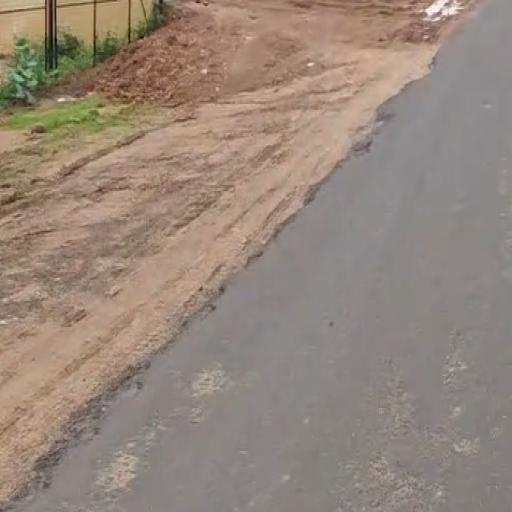edge_damage: (7, 51, 453, 491)
